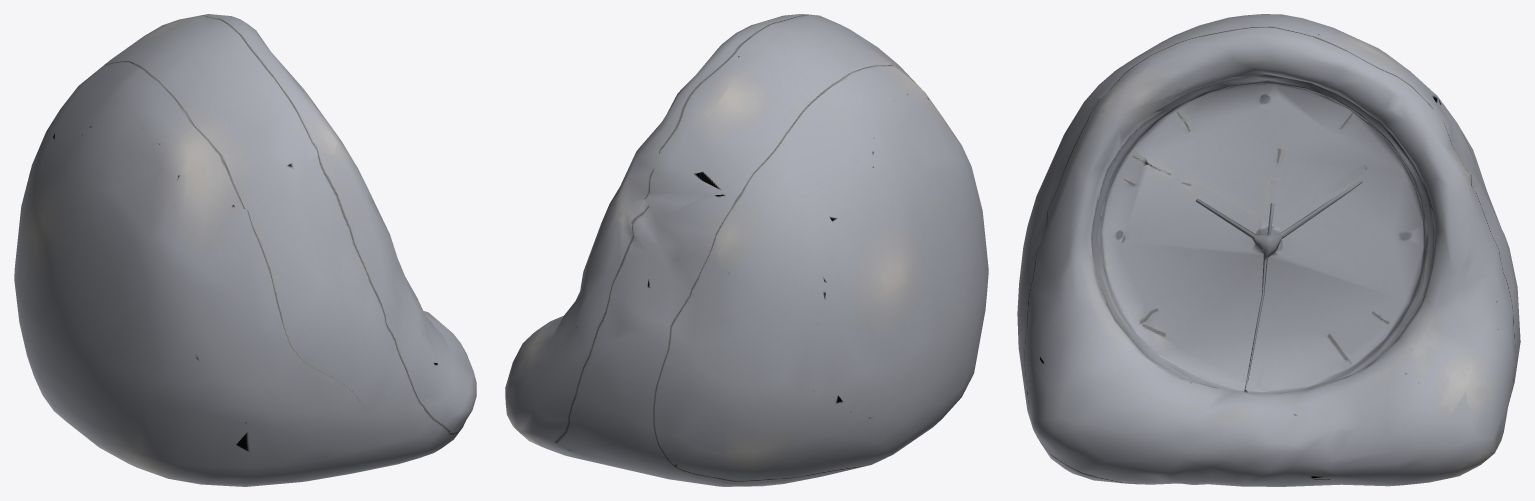
The model's file is ClockModeling.fbx.
The picture shows the model from 3 angles, left to right: view 1: azimuth 30°, elevation 25°; view 2: azimuth 150°, elevation 25°; view 3: azimuth 270°, elevation 25°; orthographic projection. The views are drawn at different scales.
Parts seen in each view (by area): view 1: tripo_node_f021a91e; view 2: tripo_node_f021a91e; view 3: tripo_node_f021a91e.
Part boxes in pixels (<box>): tripo_node_f021a91e: <box>14,14,476,486</box>; tripo_node_f021a91e: <box>505,14,988,486</box>; tripo_node_f021a91e: <box>1017,14,1520,486</box>.
Bounding box in the file's own units: 82.51 × 85.19 × 97.78.
Materials: 1 (1 with a texture image).
